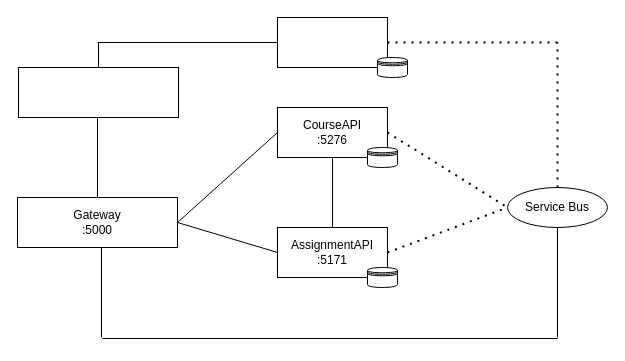
This 625x361 diagram has some shape labels left out. The centre of each missing label's shape, as x and y in pixels:
".Net Identity :7266" belongs at pixel 332 42.
"Angular Application" belongs at pixel 98 92.
